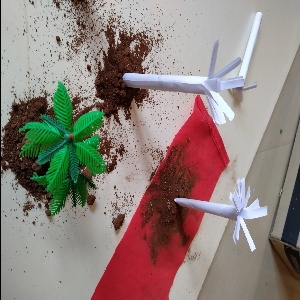plant: (16, 84, 103, 204)
weed: (114, 43, 255, 141), (149, 166, 286, 246)
